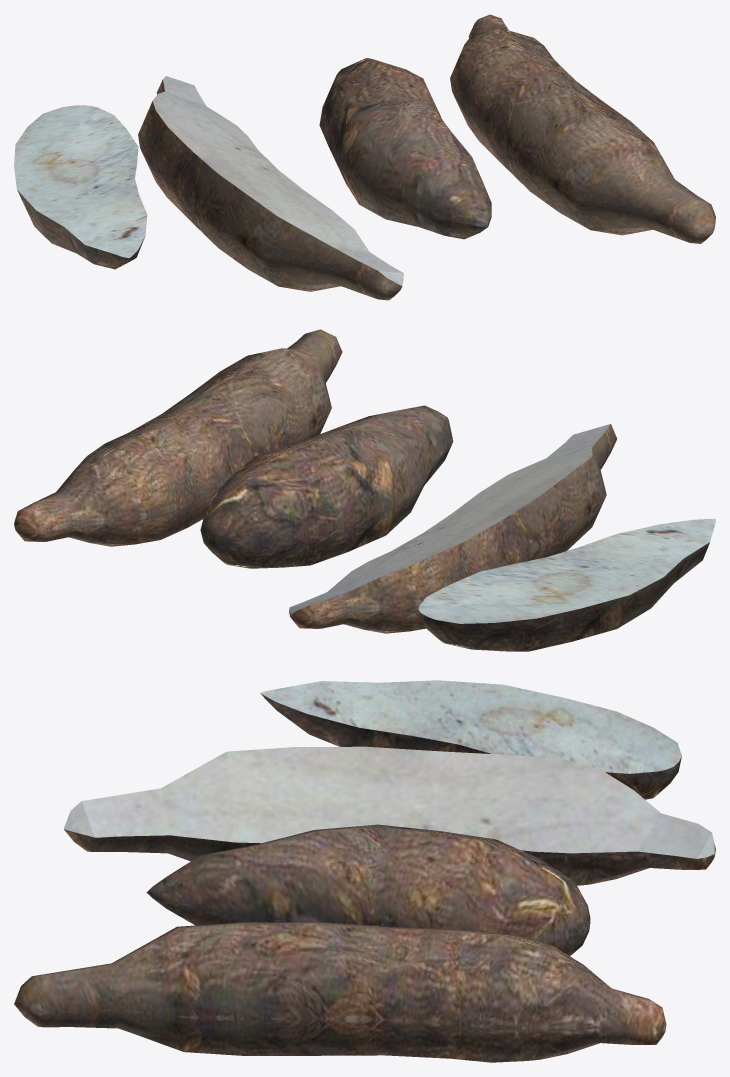
Rendered from xiangfu.FBX.
3 views of the same model, one above another, from view 1: azimuth 30°, elevation 25°; view 2: azimuth 150°, elevation 25°; view 3: azimuth 270°, elevation 25° (orthographic). The views are drawn at different scales.
Visible parts, largest first — view 1: Cylinder001, Cylinder004, Cylinder002, Cylinder003; view 2: Cylinder001, Cylinder002, Cylinder004, Cylinder003; view 3: Cylinder001, Cylinder004, Cylinder002, Cylinder003.
Part boxes in pixels (<box>): Cylinder001: <box>450,14,715,243</box>; Cylinder004: <box>138,76,403,300</box>; Cylinder002: <box>319,58,491,239</box>; Cylinder003: <box>14,105,147,269</box>; Cylinder001: <box>14,329,342,546</box>; Cylinder002: <box>200,405,453,568</box>; Cylinder004: <box>289,424,617,633</box>; Cylinder003: <box>418,518,715,651</box>; Cylinder001: <box>14,922,666,1062</box>; Cylinder004: <box>63,746,715,885</box>; Cylinder002: <box>146,824,590,955</box>; Cylinder003: <box>260,680,681,799</box>.
Size of the model in its own units: 81.54 by 16.06 by 72.55.
Materials: 1 (1 with a texture image).
